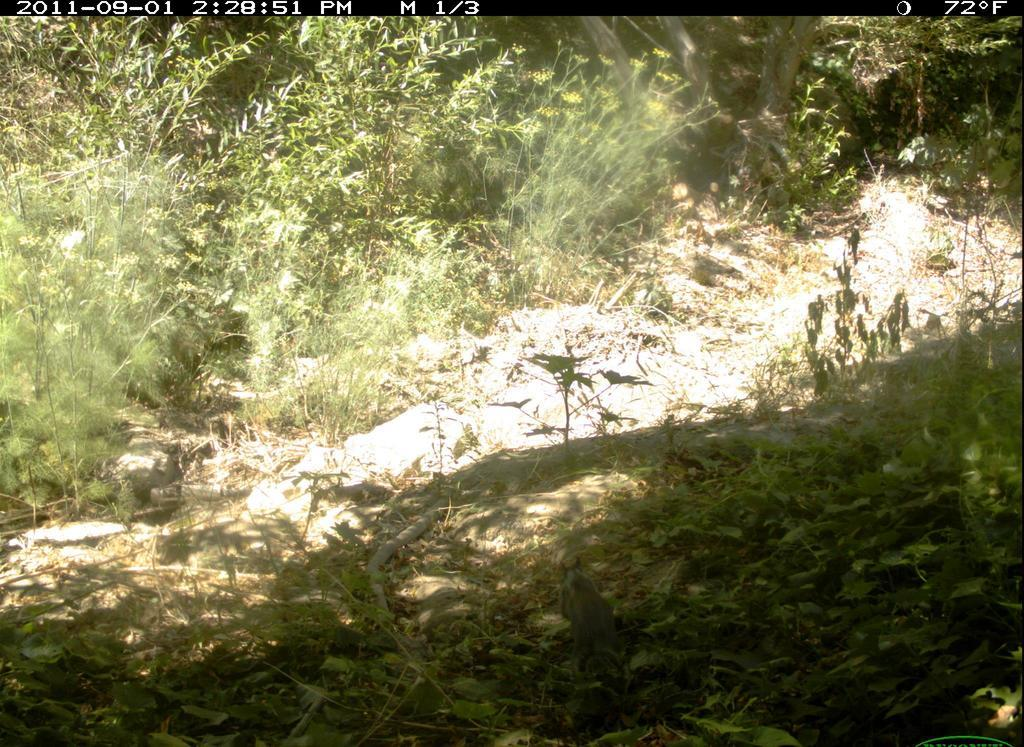squirrel: (546, 553, 644, 702)
